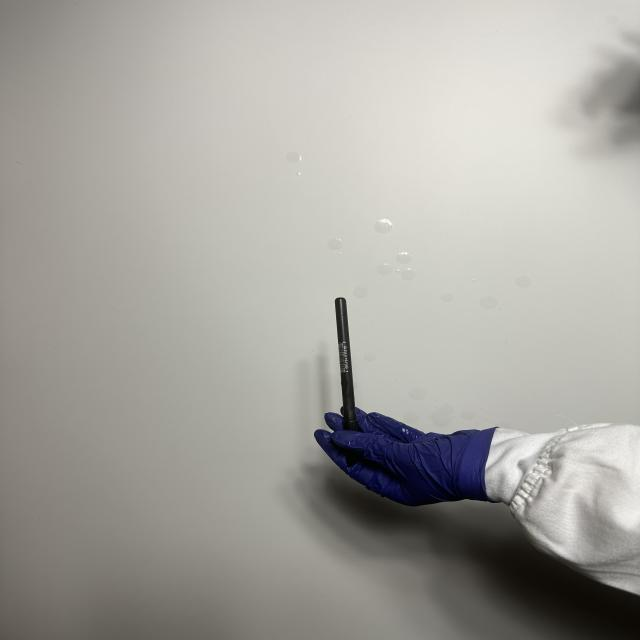gloves_contaminated: (315, 411, 495, 506)
